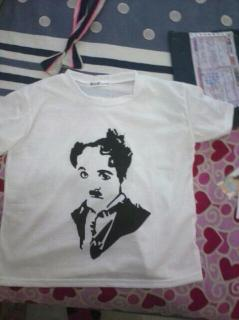short sleeve top: (0, 68, 235, 289)
